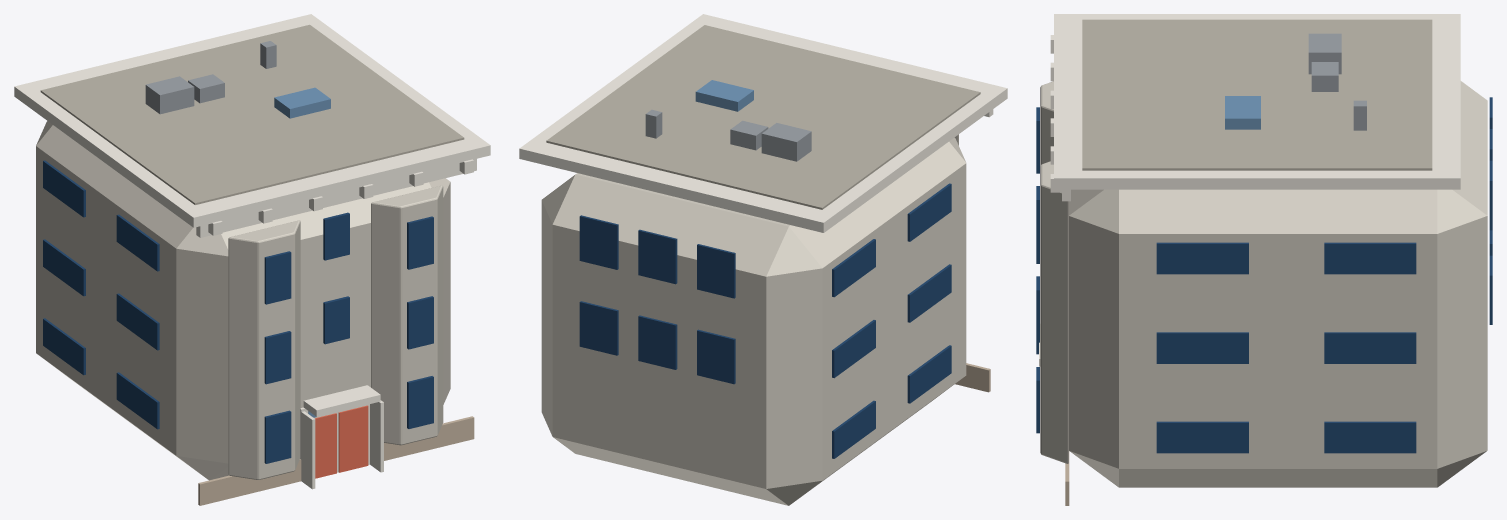
Rendered from apt_w12_f3_bays.glb.
3 renders of one model, left to right at view 1: azimuth 30°, elevation 25°; view 2: azimuth 150°, elevation 25°; view 3: azimuth 270°, elevation 25°, orthographic. The views are drawn at different scales.
Parts seen in each view (by area): view 1: walls, roofslab, corn, bay, bay.001, bsmt, frieze, door.001, hvac, canopy, bw.002, bw (+17 smaller); view 2: walls, roofslab, corn, win.005, win.002, win.001, win.004, win, win.003, hvac, sb.004, sb (+7 smaller); view 3: walls, roofslab, corn, bay.001, sb.001, sb.003, sb.009, sb.011, sb.005, sb.007, skylt, hvac (+2 smaller).
Boxes of the visible parts, x1=… form: walls: x1=36, y1=121, x2=450, y2=480; roofslab: x1=40, y1=24, x2=464, y2=204; corn: x1=14, y1=14, x2=490, y2=227; bay: x1=228, y1=220, x2=300, y2=479; bay.001: x1=371, y1=185, x2=443, y2=445; bsmt: x1=198, y1=416, x2=474, y2=505; frieze: x1=196, y1=159, x2=476, y2=237; door.001: x1=338, y1=405, x2=368, y2=472; hvac: x1=145, y1=76, x2=194, y2=114; canopy: x1=303, y1=385, x2=380, y2=416; bw.002: x1=264, y1=251, x2=291, y2=304; bw: x1=264, y1=410, x2=291, y2=463; walls: x1=541, y1=137, x2=966, y2=505; roofslab: x1=546, y1=25, x2=980, y2=209; corn: x1=519, y1=14, x2=1007, y2=232; win.005: x1=579, y1=215, x2=618, y2=269; win.002: x1=579, y1=301, x2=618, y2=355; win.001: x1=638, y1=315, x2=677, y2=369; win.004: x1=638, y1=229, x2=677, y2=284; win: x1=697, y1=329, x2=735, y2=384; win.003: x1=697, y1=244, x2=735, y2=298; hvac: x1=761, y1=123, x2=811, y2=161; sb.004: x1=907, y1=264, x2=951, y2=322; sb: x1=907, y1=345, x2=951, y2=403; walls: x1=1069, y1=81, x2=1487, y2=487; roofslab: x1=1082, y1=19, x2=1432, y2=170; corn: x1=1054, y1=14, x2=1460, y2=189; bay.001: x1=1040, y1=161, x2=1068, y2=463; sb.001: x1=1156, y1=421, x2=1248, y2=453; sb.003: x1=1324, y1=421, x2=1416, y2=453; sb.009: x1=1156, y1=242, x2=1248, y2=274; sb.011: x1=1324, y1=242, x2=1416, y2=274; sb.005: x1=1156, y1=332, x2=1248, y2=363; sb.007: x1=1324, y1=332, x2=1416, y2=363; skylt: x1=1225, y1=96, x2=1260, y2=129; hvac: x1=1308, y1=33, x2=1341, y2=74.
Size of the model in its own units: 13 by 13.3 by 15.26.
